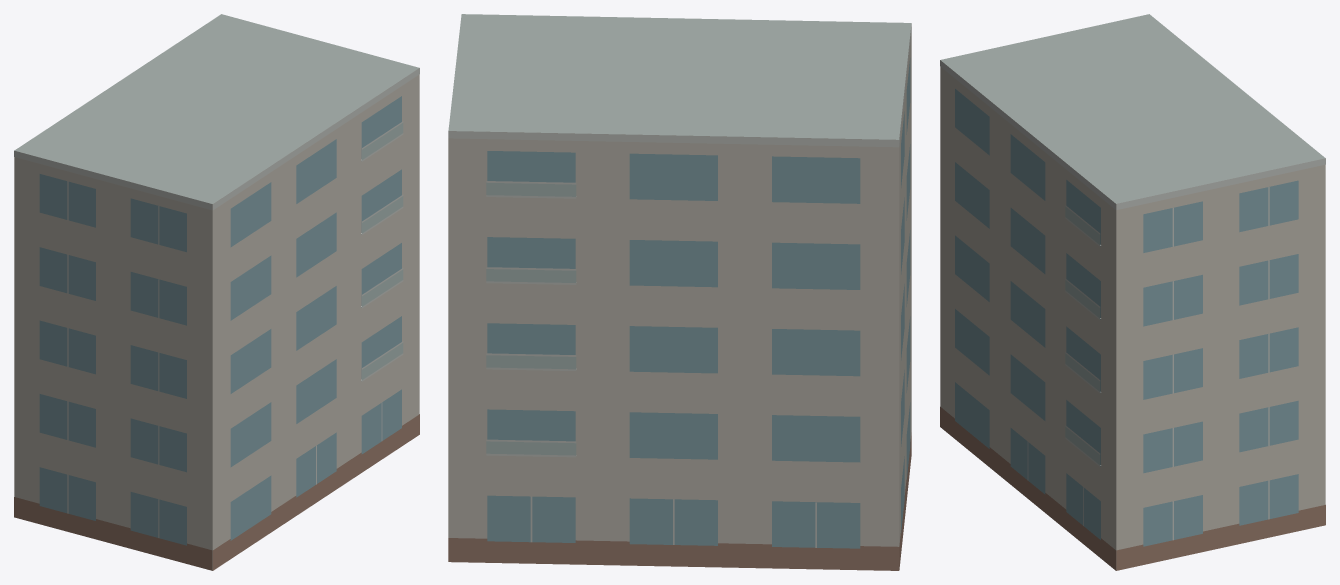
File: survey-upis-32948560.glb
The picture shows the model from 3 angles, left to right: view 1: azimuth 30°, elevation 25°; view 2: azimuth 150°, elevation 25°; view 3: azimuth 270°, elevation 25°; orthographic projection. The views are drawn at different scales.
Parts seen in each view (by area): view 1: survey-upis-32948560.tmp; view 2: survey-upis-32948560.tmp; view 3: survey-upis-32948560.tmp.
Part boxes in pixels (bbox=[...]): survey-upis-32948560.tmp: bbox=[14, 14, 419, 570]; survey-upis-32948560.tmp: bbox=[448, 14, 911, 570]; survey-upis-32948560.tmp: bbox=[940, 14, 1325, 570].
Bounding box in the file's own units: 15.72 × 14.15 × 13.49.
